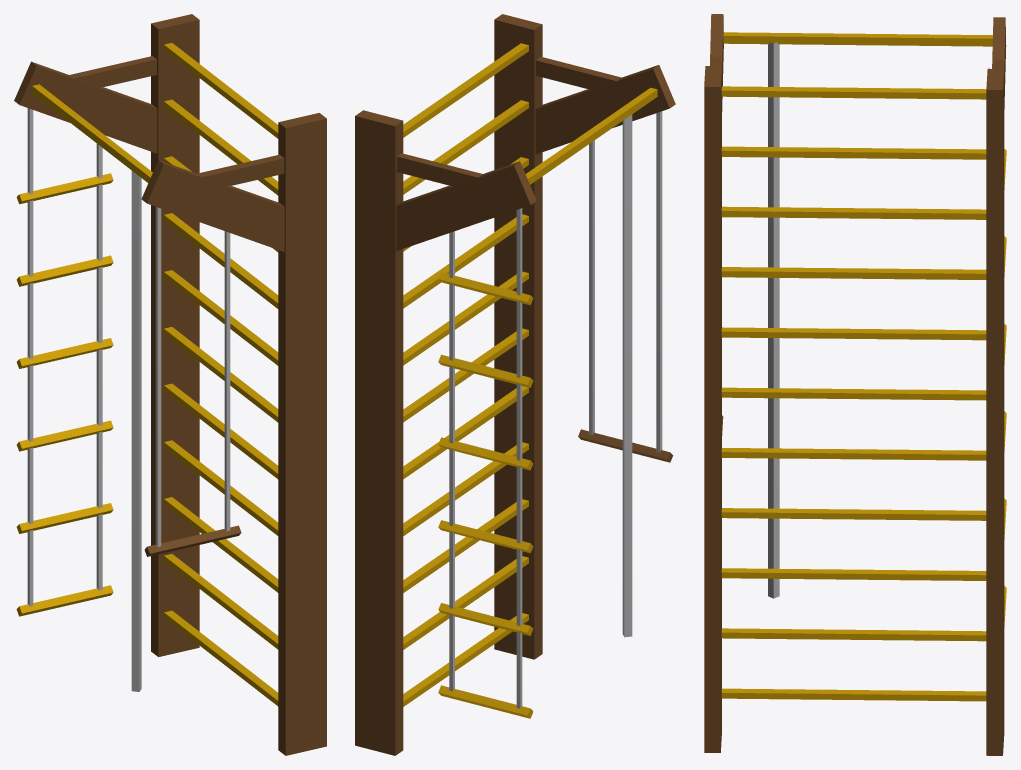
File: Retro shelf.fbx
The picture shows the model from 3 angles, left to right: view 1: azimuth 30°, elevation 25°; view 2: azimuth 150°, elevation 25°; view 3: azimuth 270°, elevation 25°; orthographic projection. The views are drawn at different scales.
Parts seen in each view (by area): view 1: Retro shelf; view 2: Retro shelf; view 3: Retro shelf.
Part boxes in pixels (left/top/right/bottom): Retro shelf: left=14, top=14, right=326, bottom=755; Retro shelf: left=355, top=14, right=675, bottom=755; Retro shelf: left=704, top=14, right=1006, bottom=755.
Bounding box in the file's own units: 62.32 × 205 × 84.36.
